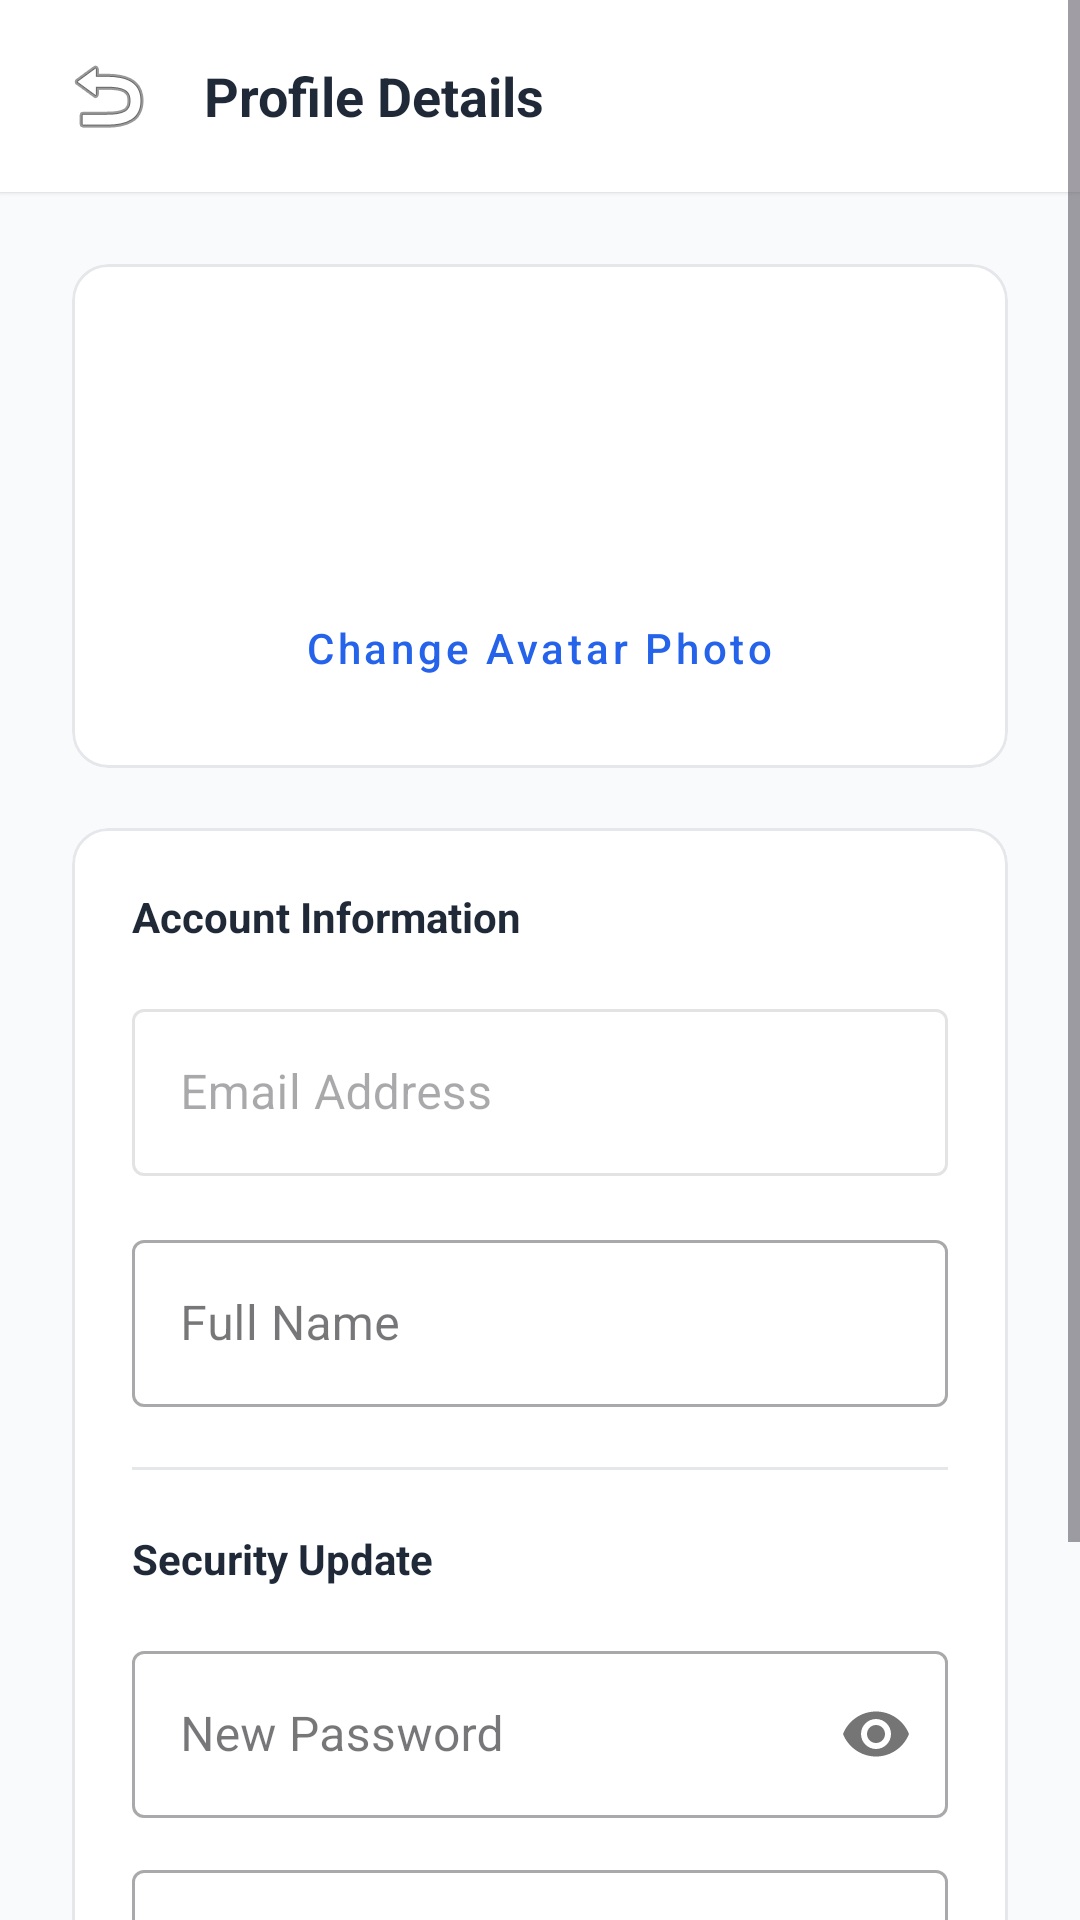

Screen size 1080×1920. Icon name, then its box in pixels as (x1, y1, x2, y2):
Back: (75, 65, 144, 128)
